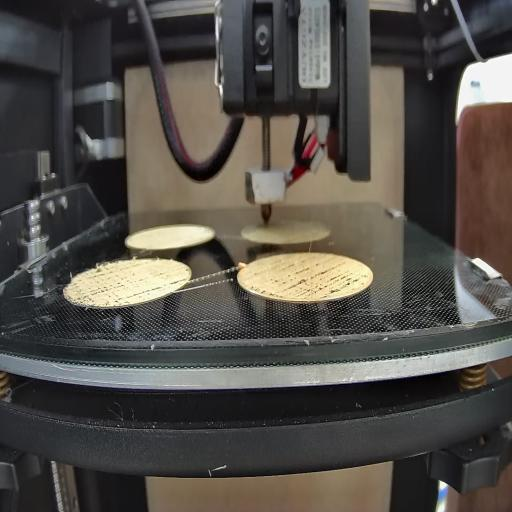under_extrusion: (252, 263, 370, 299), (76, 262, 163, 306), (168, 273, 188, 295)
